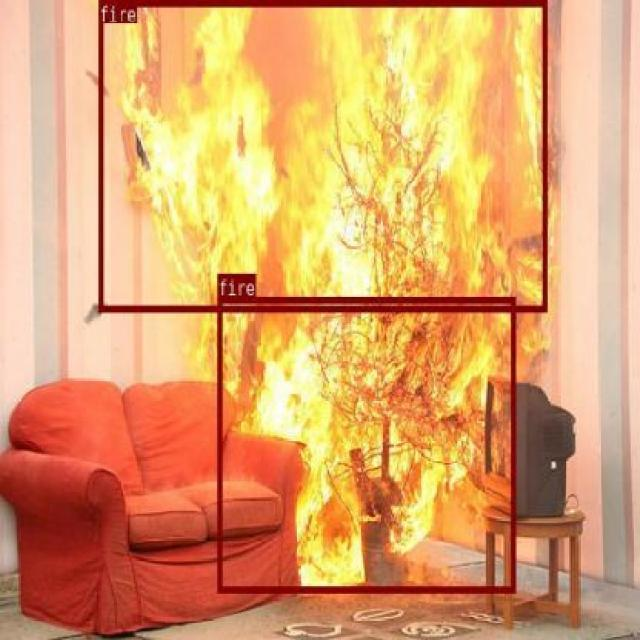Fire: (98, 0, 544, 309), (218, 297, 514, 591)
